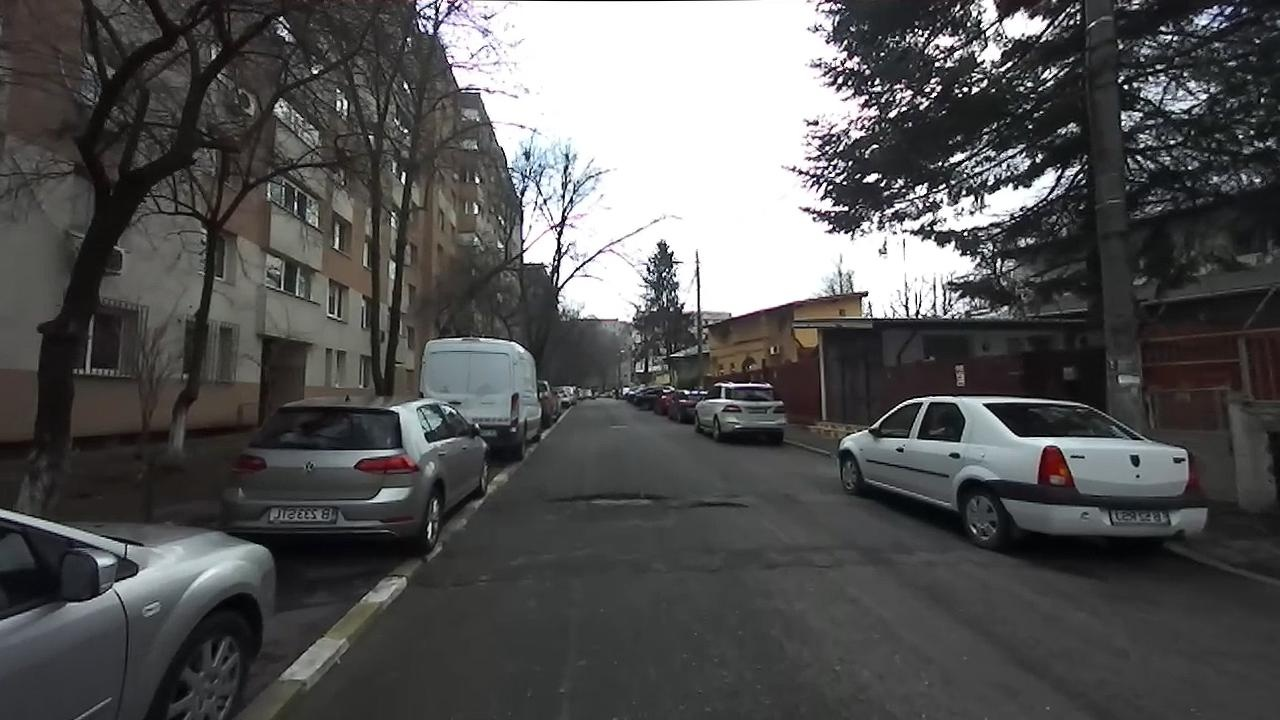pothole: (543, 488, 669, 509), (684, 497, 749, 511)
